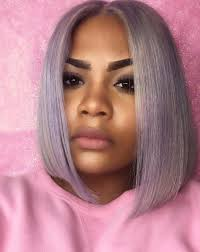black_female: (48, 13, 166, 171)
